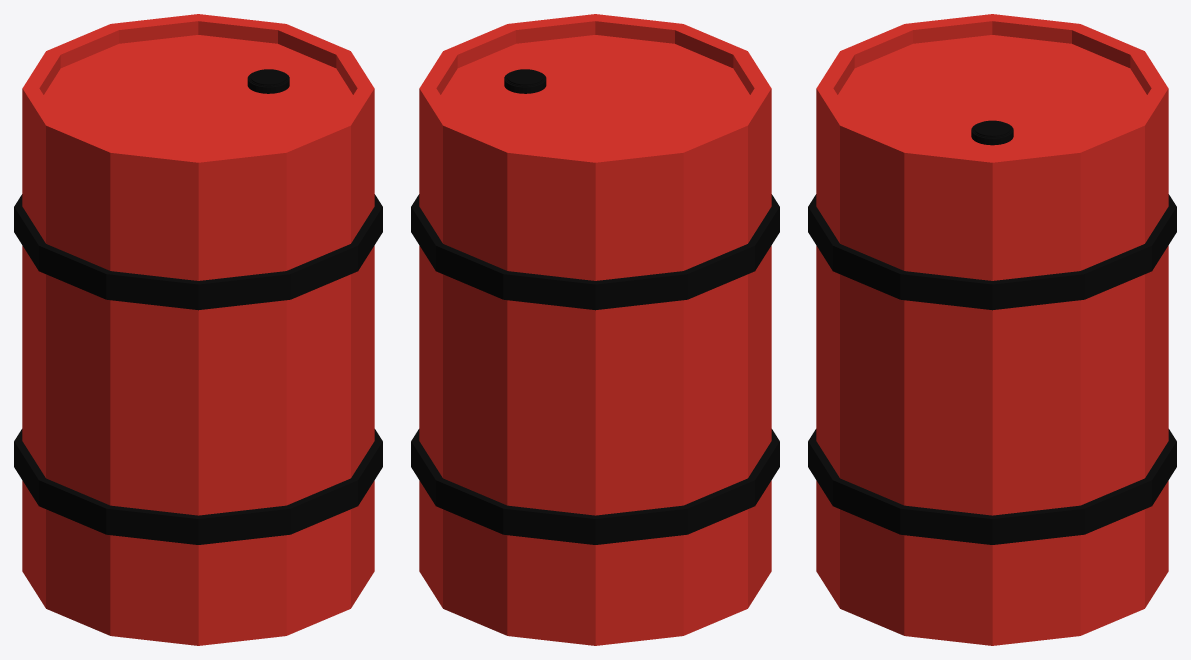
The model's file is oilbarrel.fbx.
3 views of the same model, side by side, from view 1: azimuth 30°, elevation 25°; view 2: azimuth 150°, elevation 25°; view 3: azimuth 270°, elevation 25° (orthographic).
Visible parts, largest first — view 1: Cylinder, Cylinder.002; view 2: Cylinder, Cylinder.002; view 3: Cylinder, Cylinder.002.
Boxes of the visible parts, <box> form: Cylinder: <box>14,14,382,645</box>; Cylinder.002: <box>247,69,289,93</box>; Cylinder: <box>411,14,779,645</box>; Cylinder.002: <box>504,69,546,93</box>; Cylinder: <box>808,14,1176,645</box>; Cylinder.002: <box>971,120,1013,145</box>.
Size of the model in its own units: 1.84 by 2.67 by 1.84.
